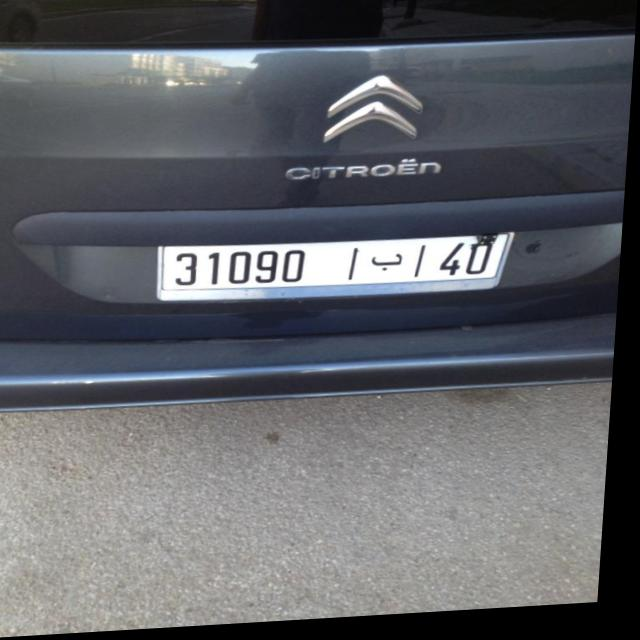License-Plate: (161, 239, 518, 304)
